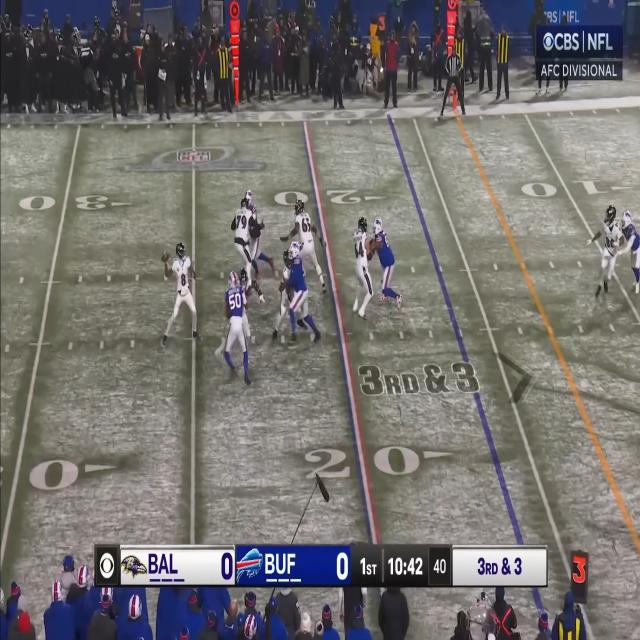Ball: (160, 250, 171, 264)
